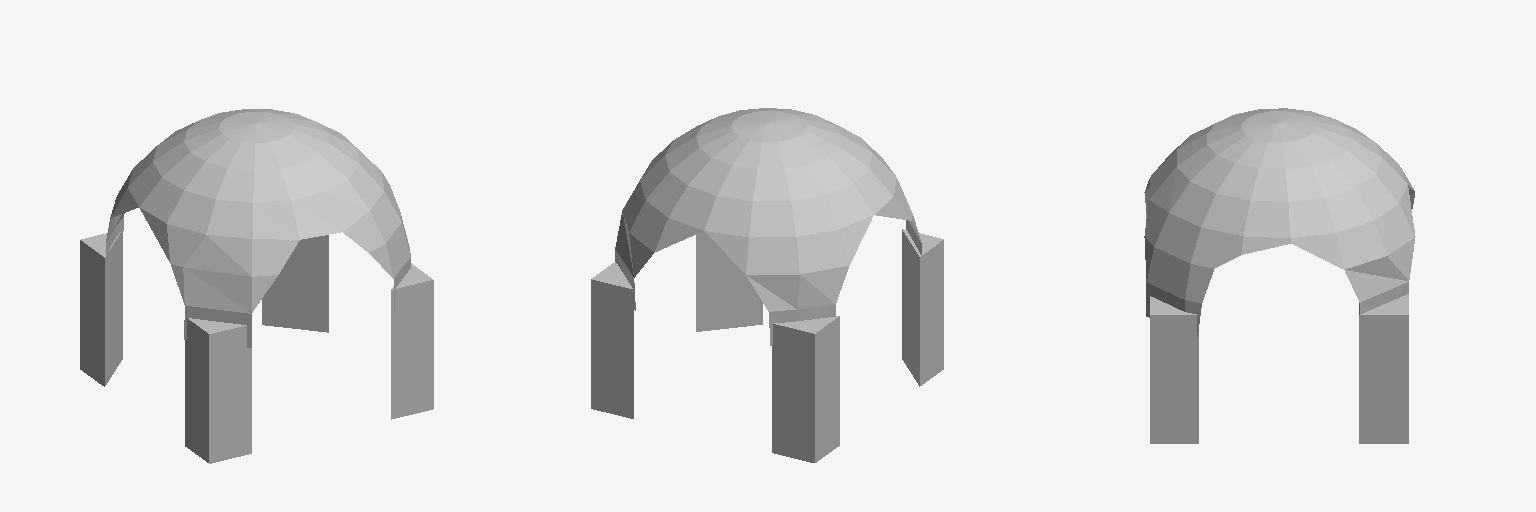
The model's file is klar_enkel.obj.
3 views of the same model, side by side, from view 1: azimuth 30°, elevation 25°; view 2: azimuth 150°, elevation 25°; view 3: azimuth 270°, elevation 25° (orthographic).
Parts seen in each view (by area): view 1: Sphere, Cube.012_Cube.008, Cube.007_Cube.004, Cube.011_Cube.007, Cube.010_Cube.006; view 2: Sphere, Cube.011_Cube.007, Cube.010_Cube.006, Cube.012_Cube.008, Cube.007_Cube.004; view 3: Sphere, Cube.010_Cube.006, Cube.007_Cube.004.
Part boxes in pixels (x1,y1,x2,y2): Sphere: (106,109,410,347); Cube.012_Cube.008: (185,318,251,463); Cube.007_Cube.004: (391,263,433,419); Cube.011_Cube.007: (80,229,122,386); Cube.010_Cube.006: (262,235,328,332); Sphere: (615,108,921,345); Cube.011_Cube.007: (772,316,839,462); Cube.010_Cube.006: (591,262,633,418); Cube.012_Cube.008: (902,229,943,386); Cube.007_Cube.004: (696,231,762,331); Sphere: (1144,108,1415,336); Cube.010_Cube.006: (1359,294,1408,443); Cube.007_Cube.004: (1150,296,1198,443).
Bounding box in the file's own units: 21.5 × 23.85 × 21.98.